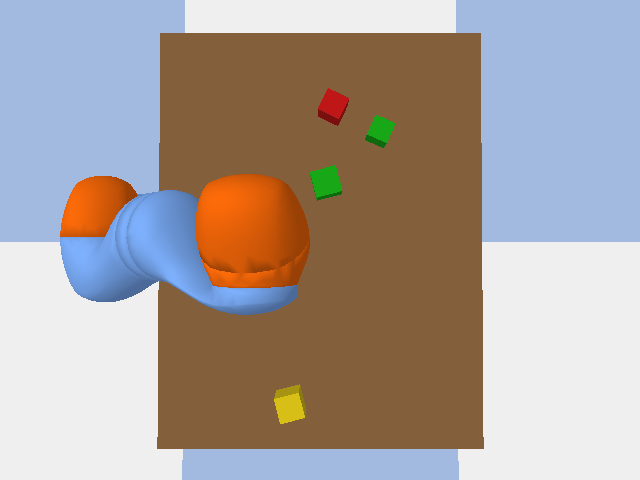green_obj: (310, 165, 341, 200), (365, 115, 395, 147)
red_obj: (318, 88, 348, 125)
yellow_obj: (274, 384, 305, 423)
